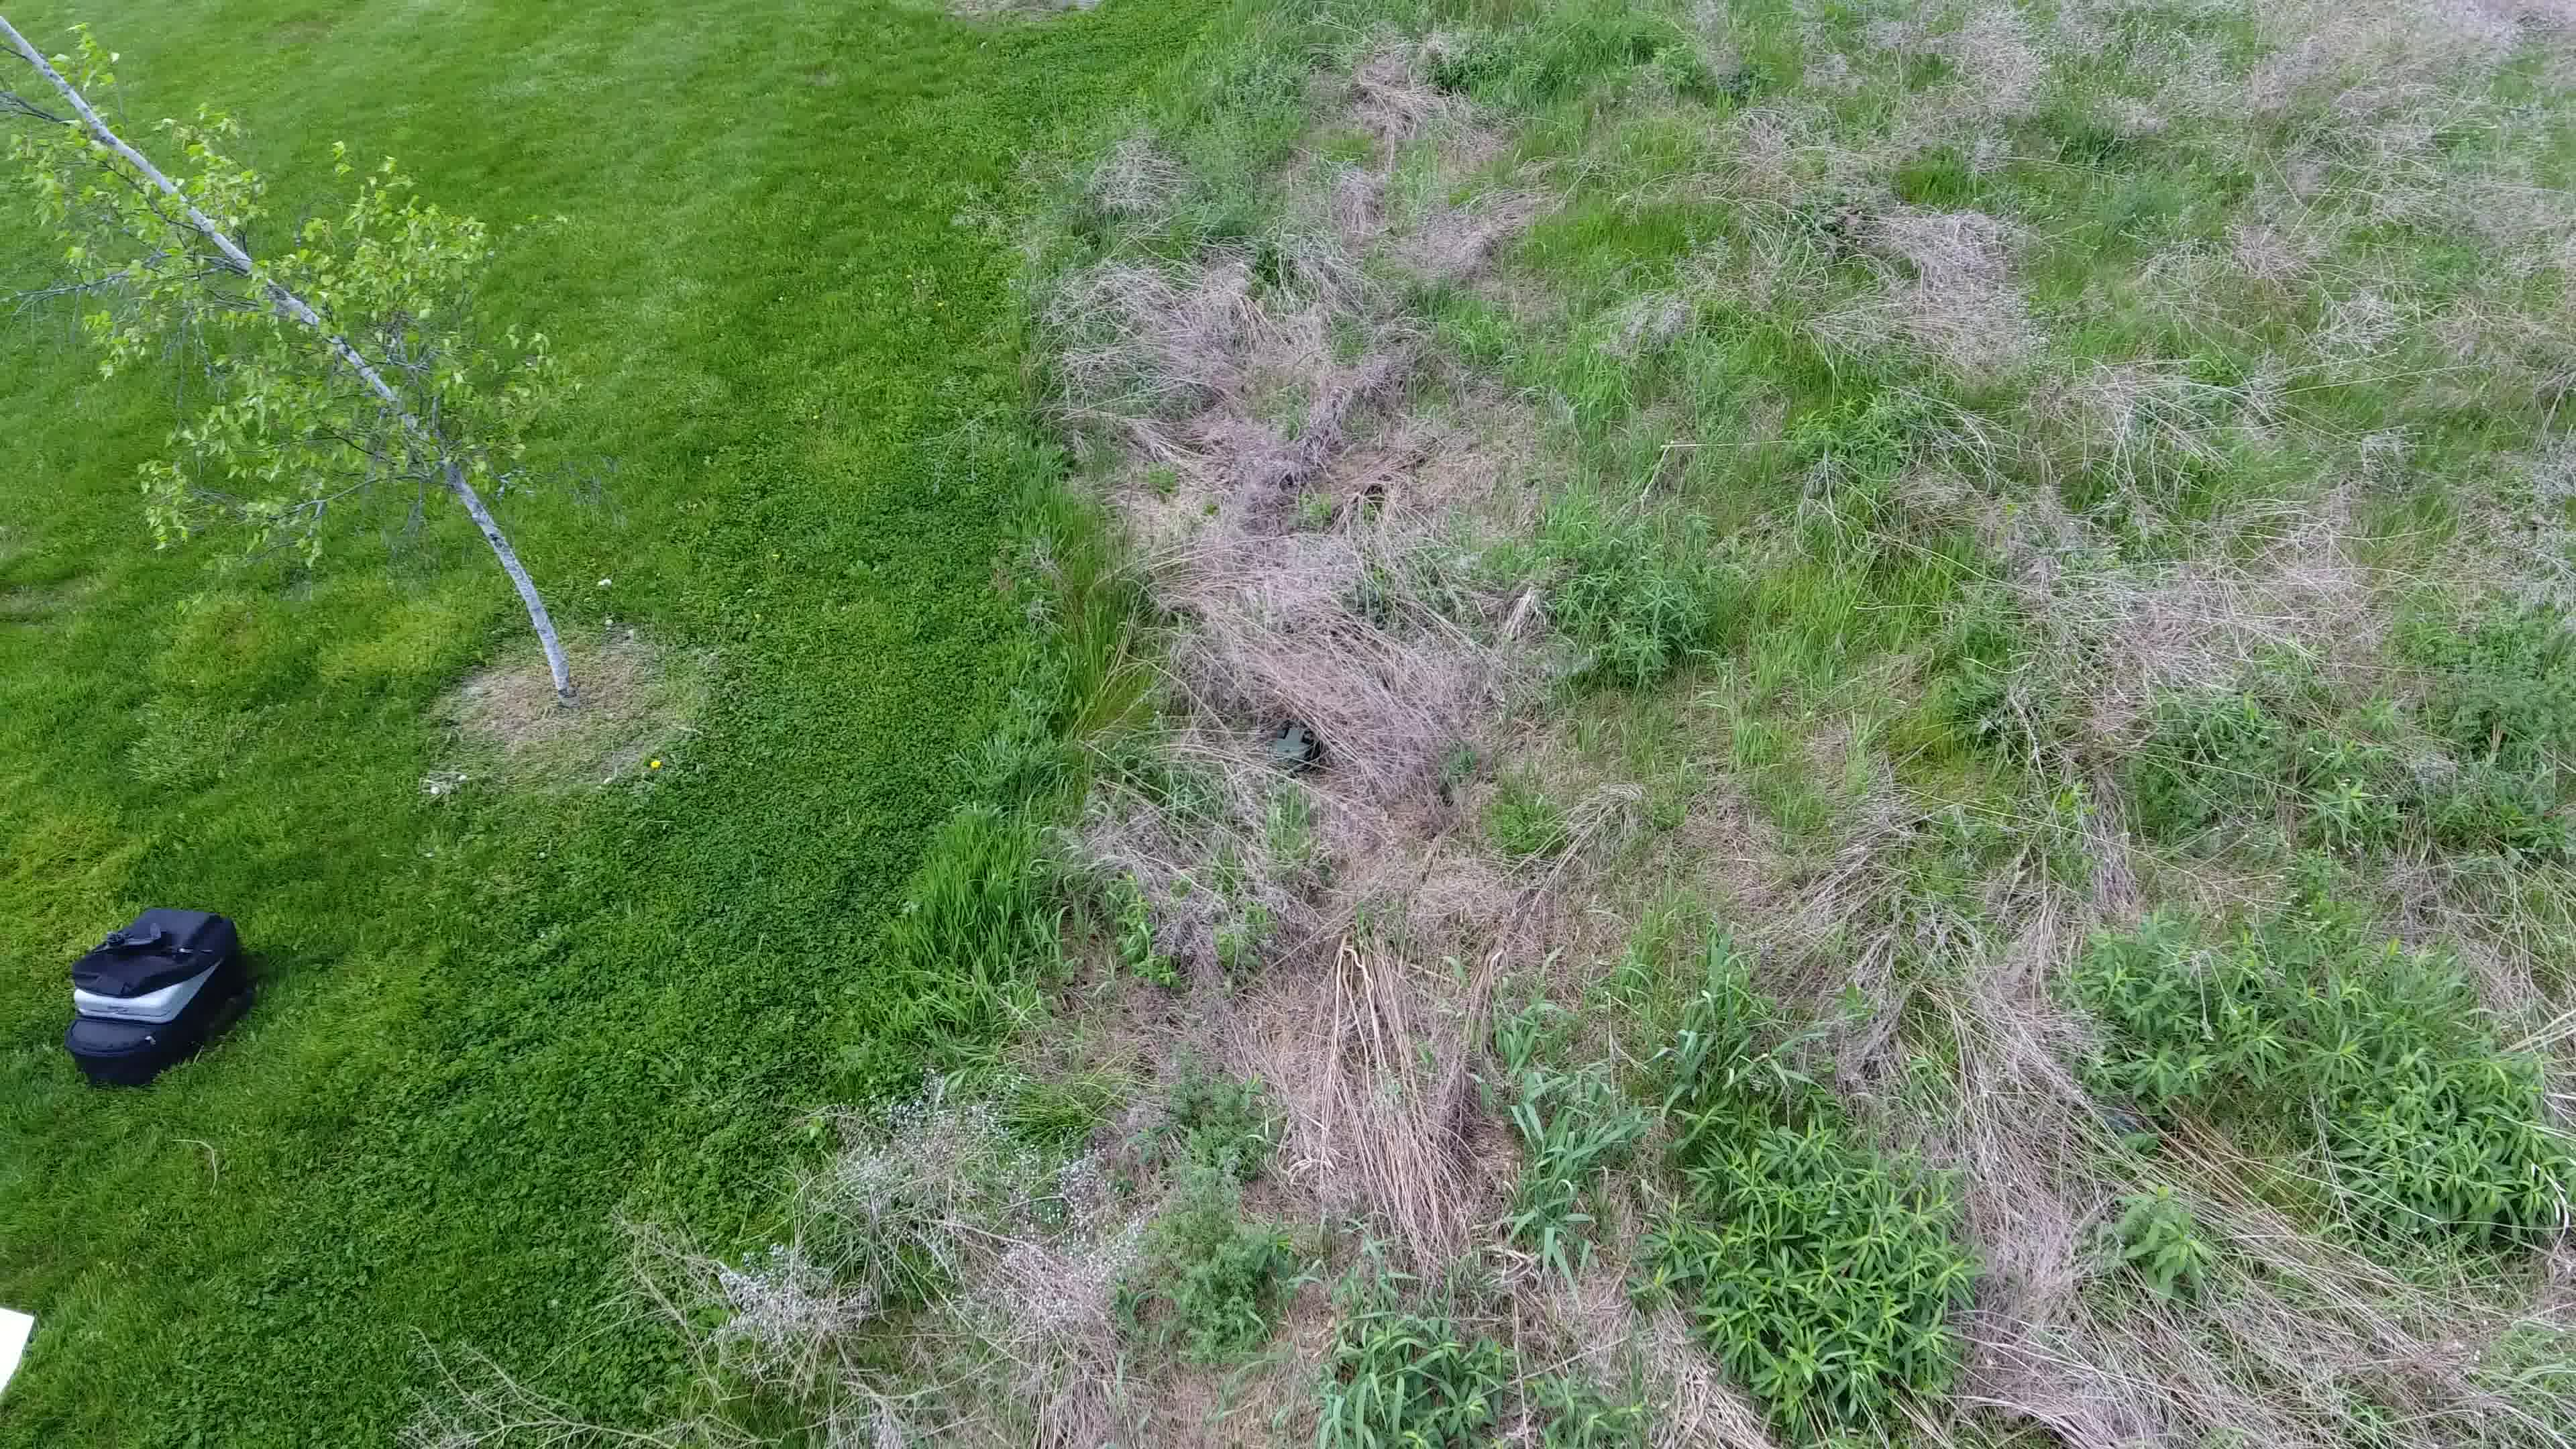transporter9: (1265, 722, 1325, 766)
